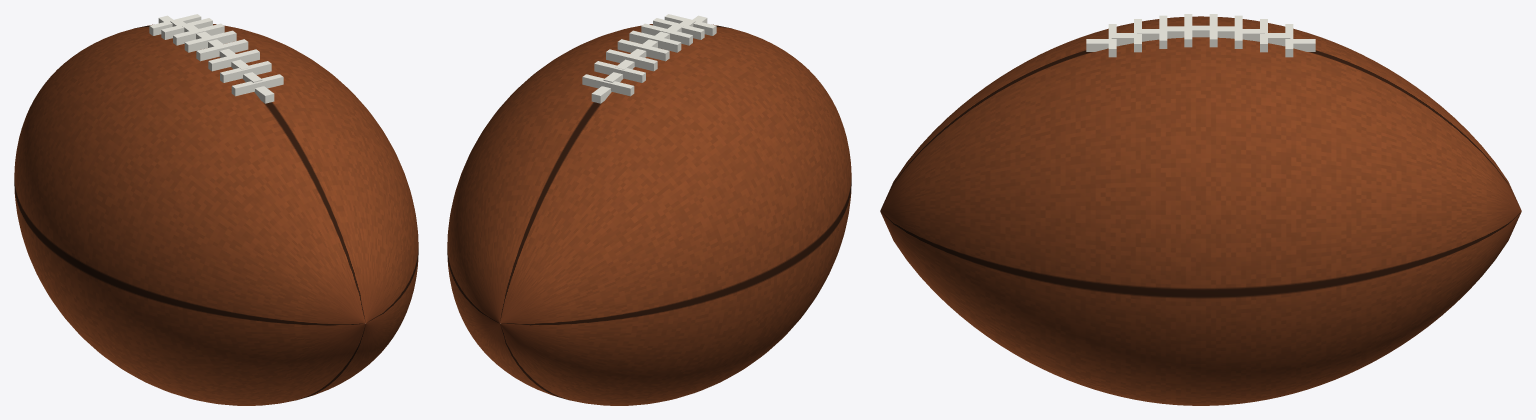
The model's file is football.glb.
The picture shows the model from 3 angles, left to right: view 1: azimuth 30°, elevation 25°; view 2: azimuth 150°, elevation 25°; view 3: azimuth 270°, elevation 25°; orthographic projection. The views are drawn at different scales.
Visible parts, largest first — view 1: football; view 2: football; view 3: football.
Boxes of the visible parts, <box> form: football: <box>14,14,418,405</box>; football: <box>447,14,851,405</box>; football: <box>880,14,1521,405</box>.
Bounding box in the file's own units: 0.17 × 0.1739 × 0.28.
2 materials, 1 textured.
